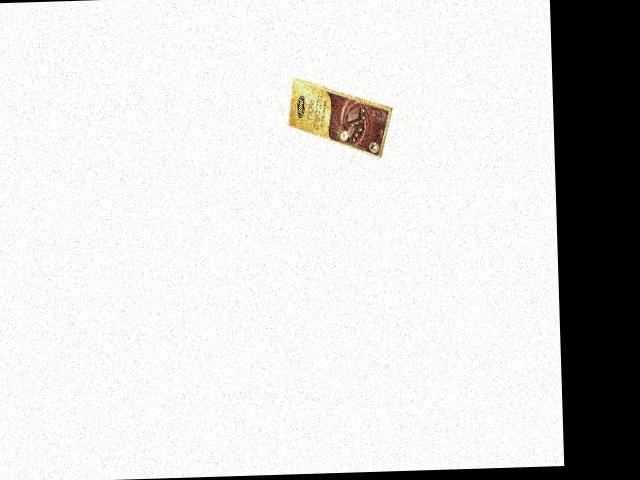chocolate: (286, 71, 403, 160)
